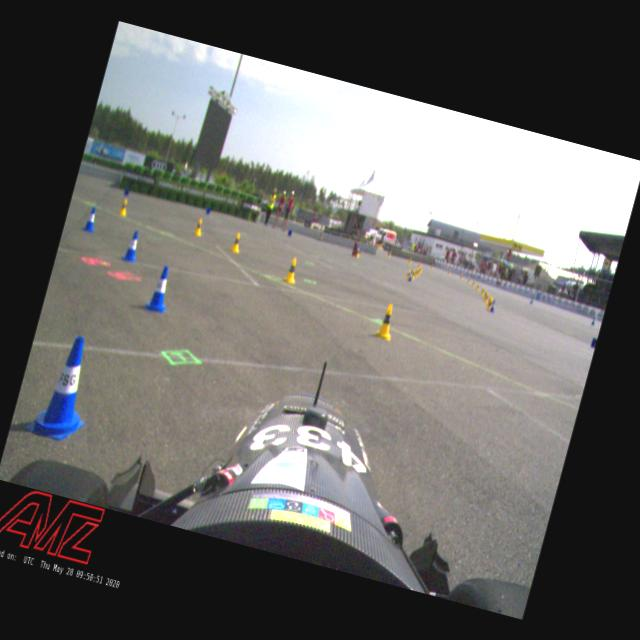blue_cone: (24, 326, 107, 446), (144, 261, 177, 315), (120, 228, 144, 264), (81, 204, 101, 234), (488, 298, 496, 313), (406, 269, 414, 282)
yellow_cone: (374, 300, 399, 342), (282, 256, 300, 285), (191, 215, 205, 238), (116, 196, 130, 218), (230, 230, 243, 253), (485, 298, 493, 312), (404, 268, 412, 280)
